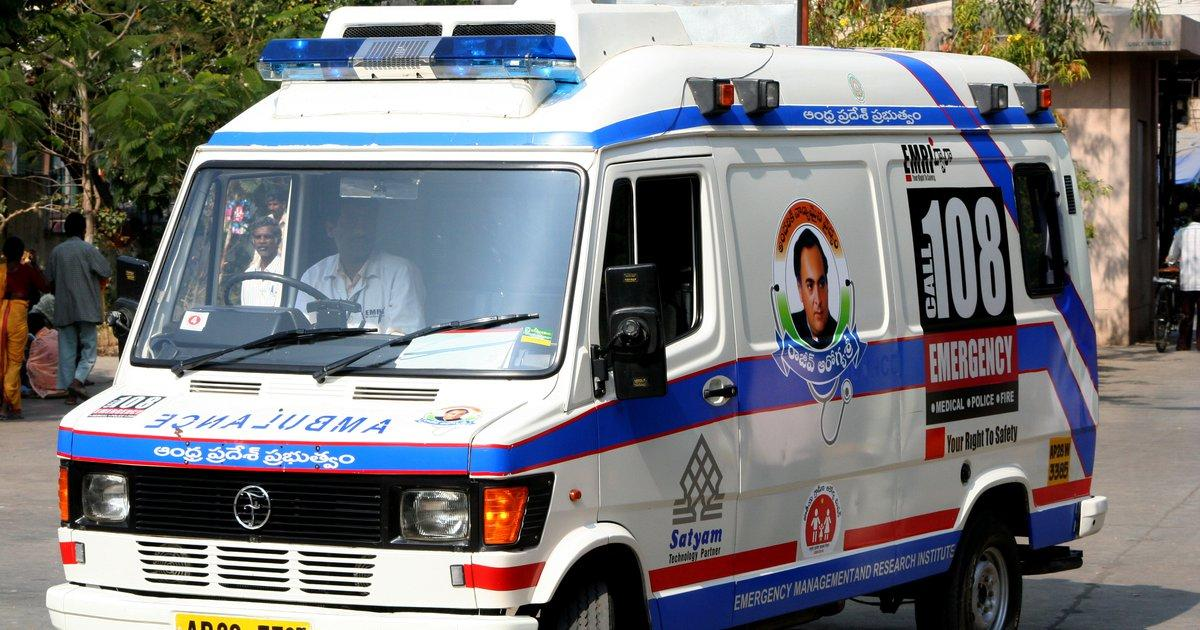ambulance: (851, 138, 1041, 492)
